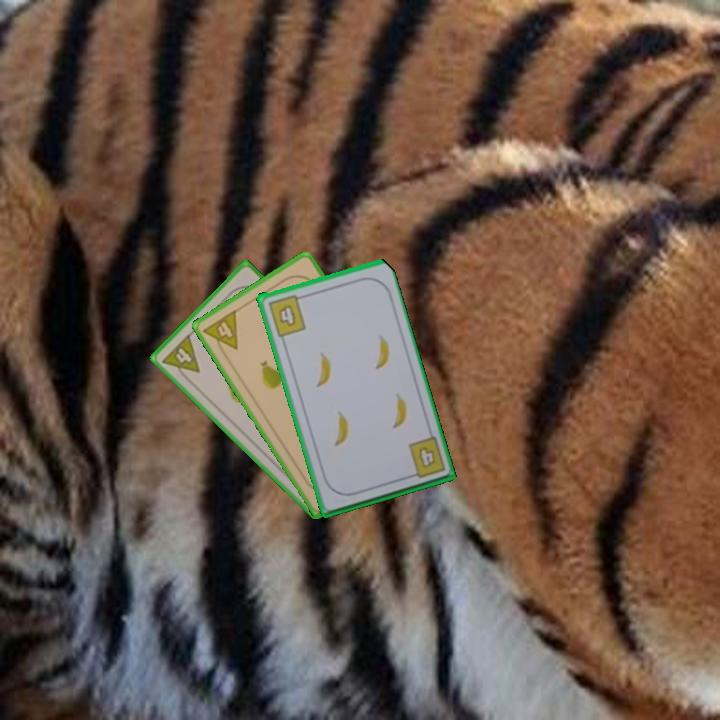4b: (264, 291, 308, 339), (415, 443, 438, 471)
4p: (158, 330, 203, 385), (199, 306, 241, 359)
